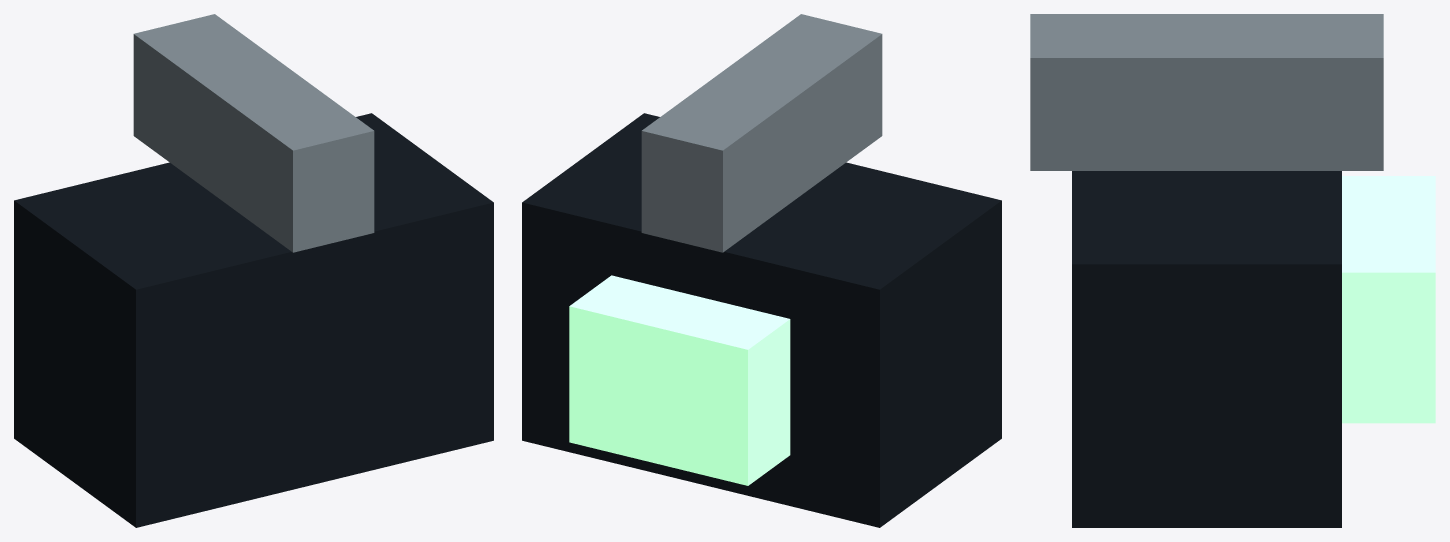
File: np_z06_composant_serum.glb
3 views of the same model, side by side, from view 1: azimuth 30°, elevation 25°; view 2: azimuth 150°, elevation 25°; view 3: azimuth 270°, elevation 25° (orthographic). The views are drawn at different scales.
Parts seen in each view (by area): view 1: Boitier, Poignee; view 2: Boitier, Noyau, Poignee; view 3: Boitier, Poignee, Noyau.
Boxes of the visible parts, box(x1,y1,x2,y2) form: Boitier: box(14, 113, 493, 527); Poignee: box(133, 14, 374, 252); Boitier: box(522, 113, 1001, 527); Noyau: box(569, 275, 790, 485); Poignee: box(641, 14, 882, 252); Boitier: box(1072, 171, 1341, 527); Poignee: box(1030, 14, 1383, 170); Noyau: box(1342, 176, 1435, 423).
Size of the model in its own units: 0.44 by 0.42 by 0.39.
